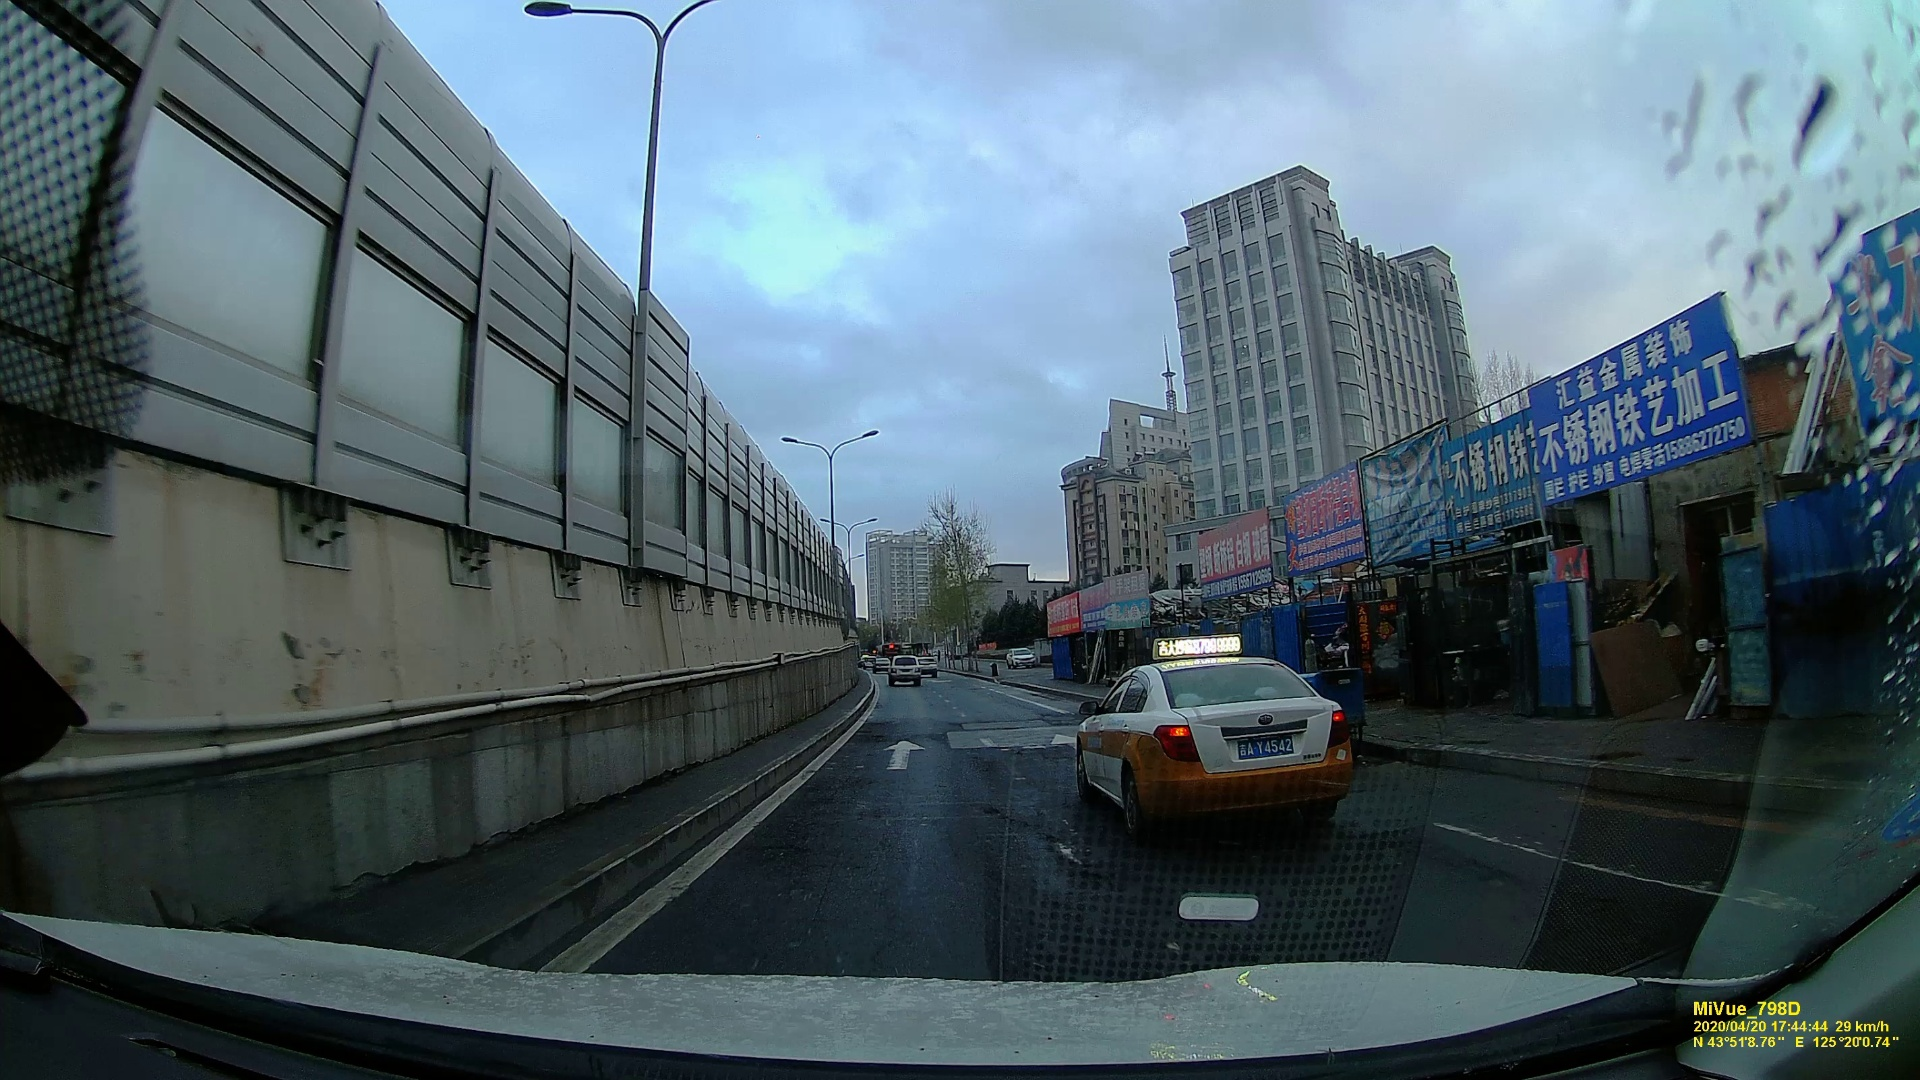vehicle: (1067, 651, 1352, 840), (886, 654, 923, 686), (1007, 646, 1038, 670)
